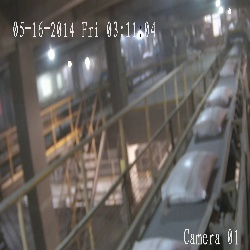cementbag: (161, 150, 216, 203), (193, 105, 227, 138), (131, 238, 192, 250), (206, 86, 233, 105)
